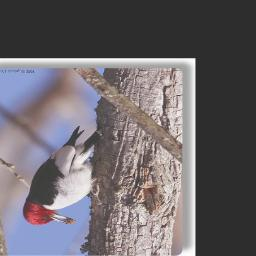Woodpecker: (22, 127, 104, 226)
